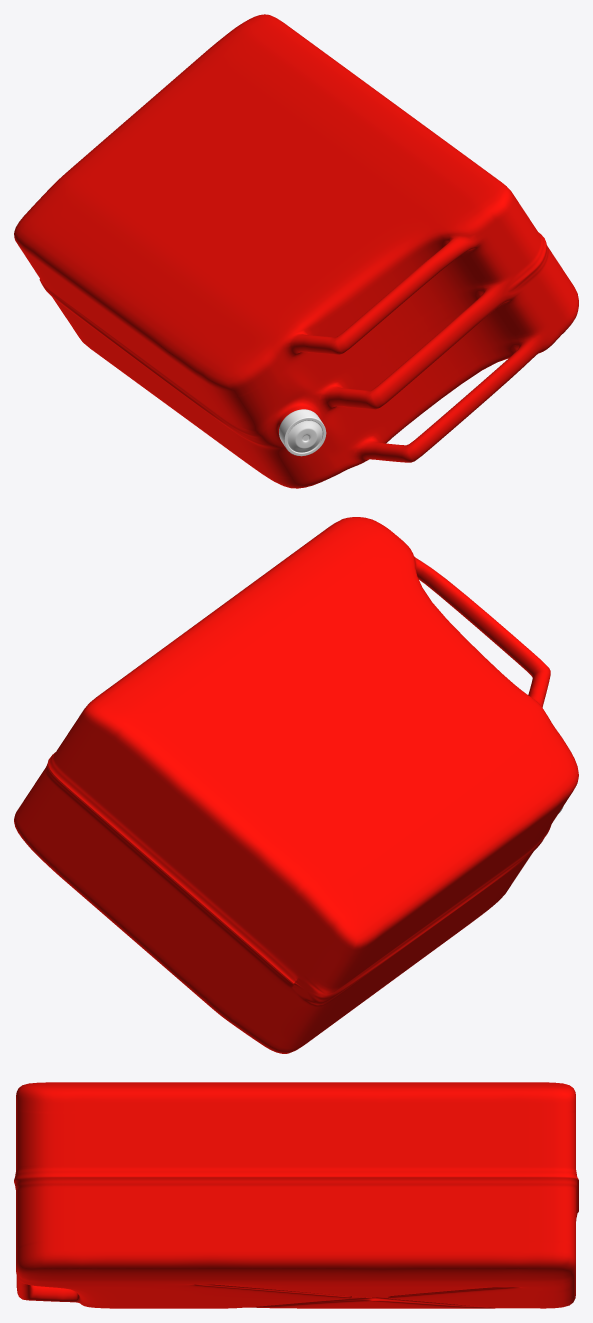
File: fuel.gltf
3 renders of one model, top to bottom at view 1: azimuth 30°, elevation 25°; view 2: azimuth 150°, elevation 25°; view 3: azimuth 270°, elevation 25°, orthographic. The views are drawn at different scales.
Parts seen in each view (by area): view 1: tank; view 2: tank; view 3: tank.
Boxes of the visible parts, x1,y1,x2,y2 form: tank: [14, 14, 578, 488]; tank: [14, 517, 578, 1053]; tank: [14, 1082, 578, 1308].
Size of the model in its own units: 0.2693 by 0.2238 by 0.3702.
